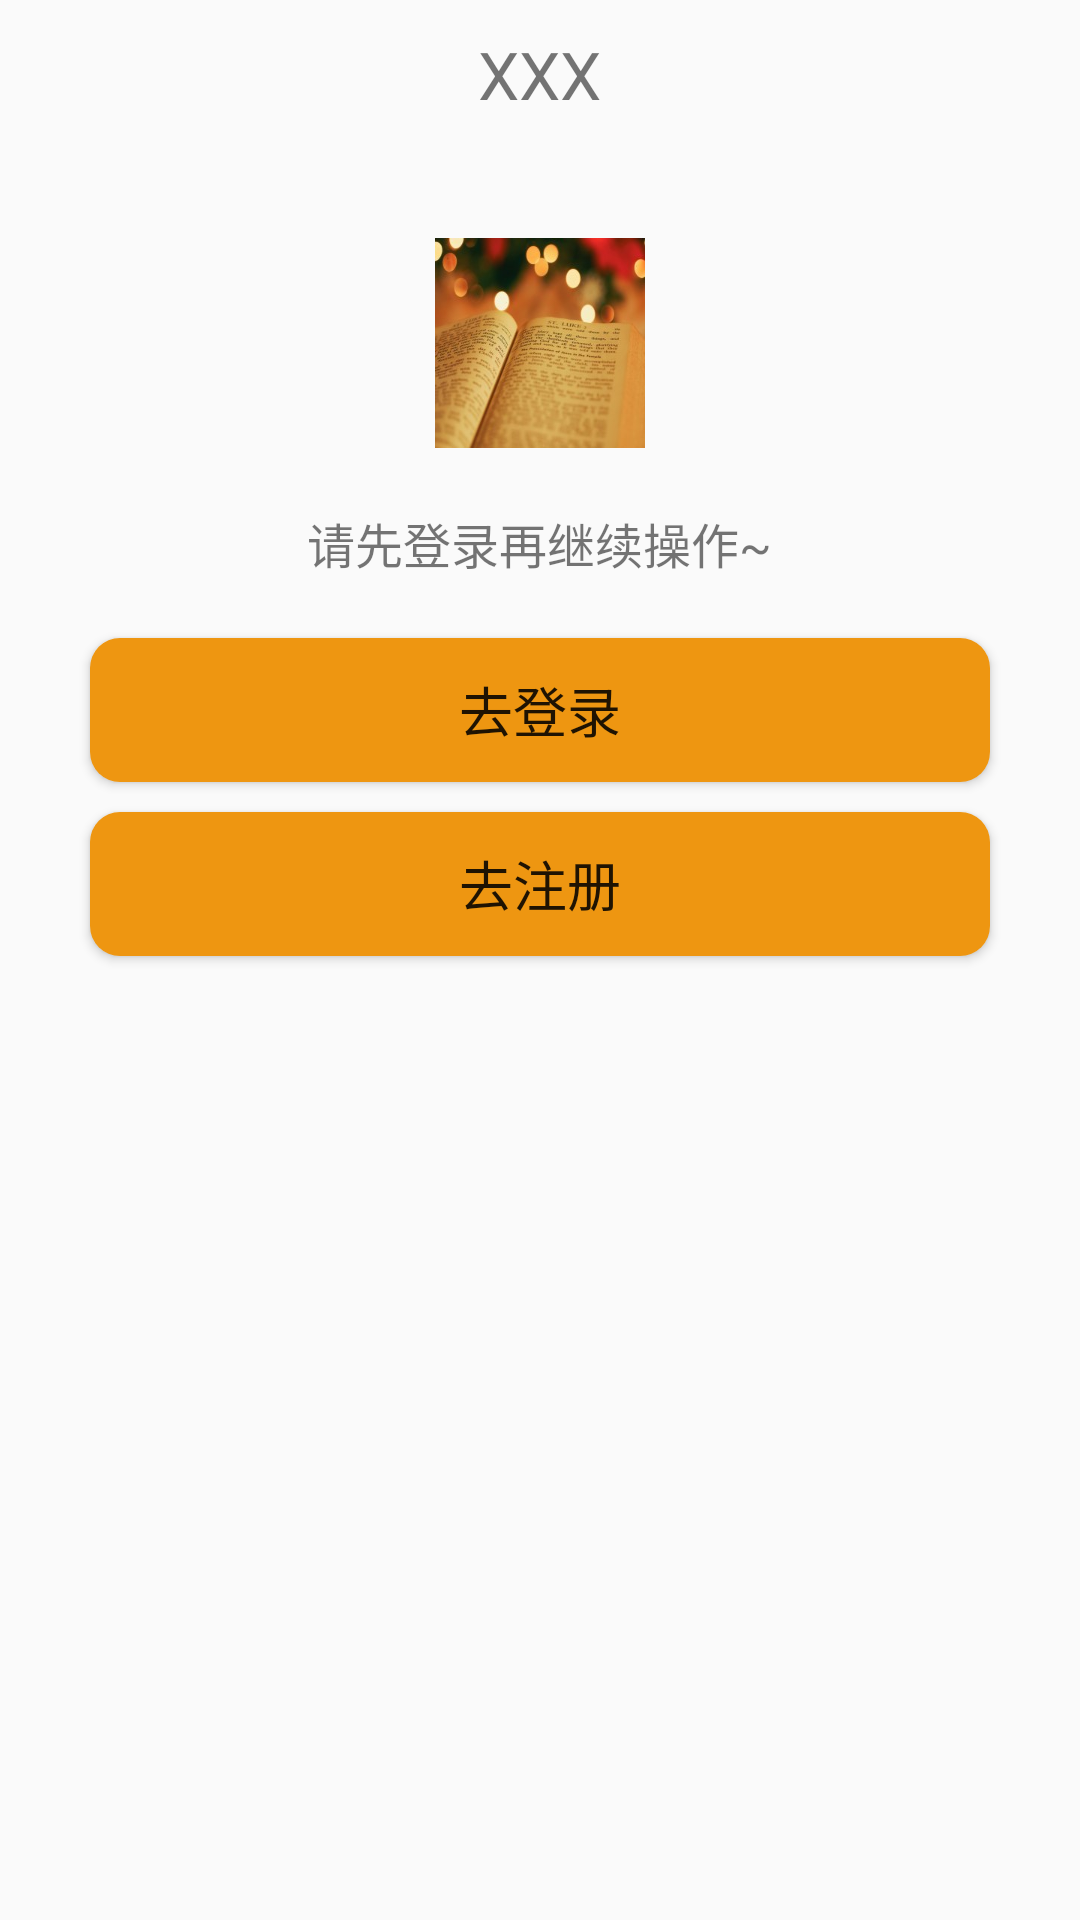

Screen size 1080px x 1920px. Icon name, then its box in pixels as [left=x1, top=y1, right=x2, bottom=y2]:
book: [left=435, top=238, right=645, bottom=448]
